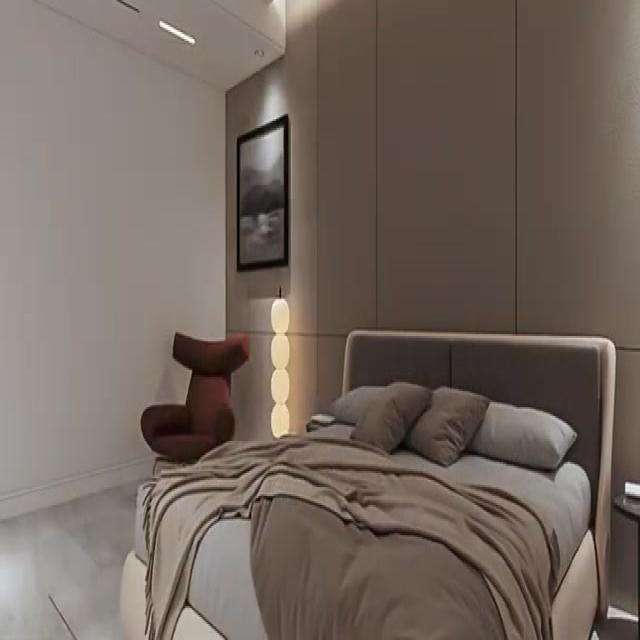obstacle: (119, 328, 616, 638), (140, 329, 249, 475)
